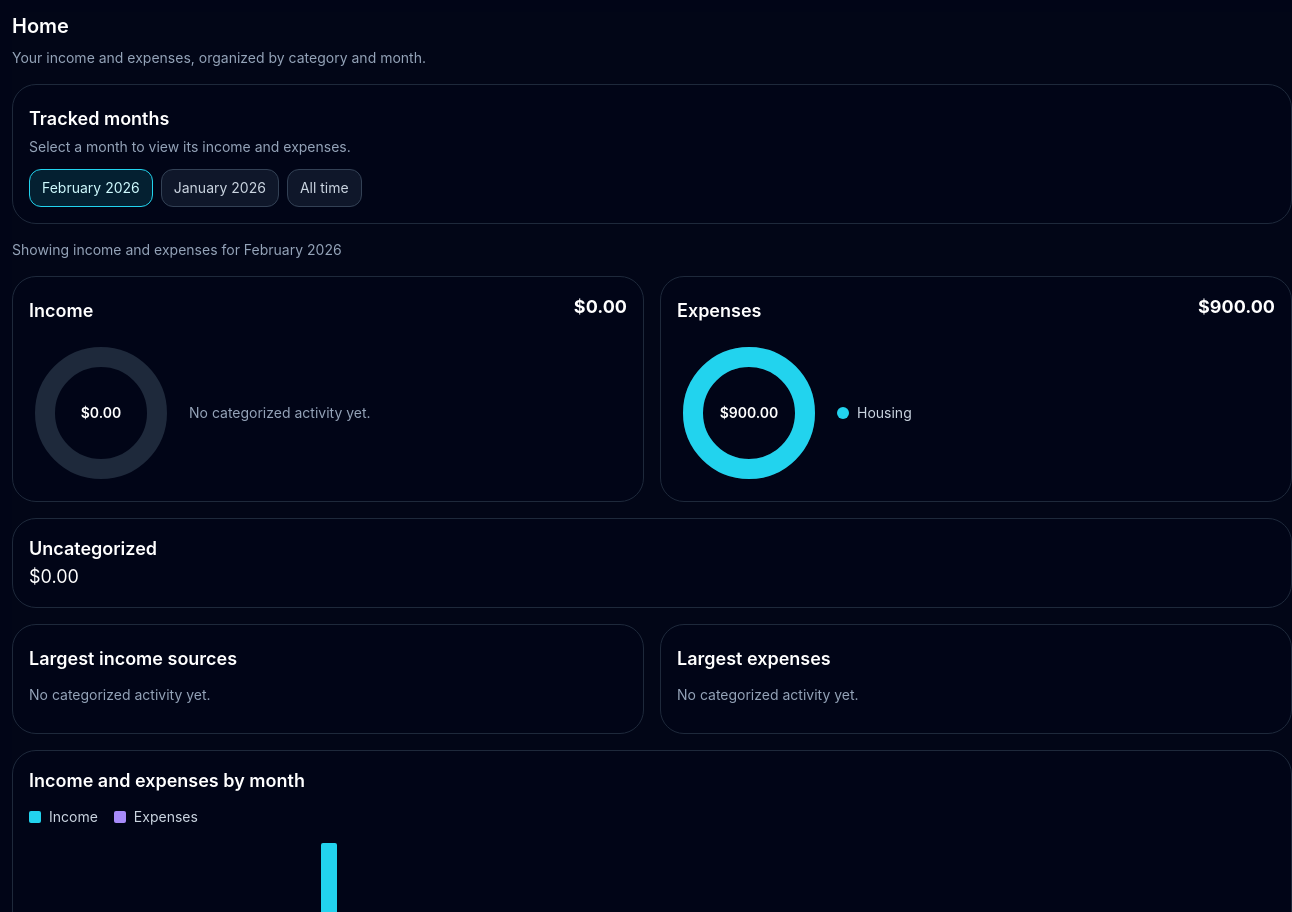
Test: HomeTab category charts › shows a category popup while a chart legend item is hovered
The width and height of the screenshot is (1292, 912).
Check: the heading "Expenses" is shown, box [677, 297, 762, 325]
Click the button "January 2026" at (220, 188), box [161, 169, 279, 207]
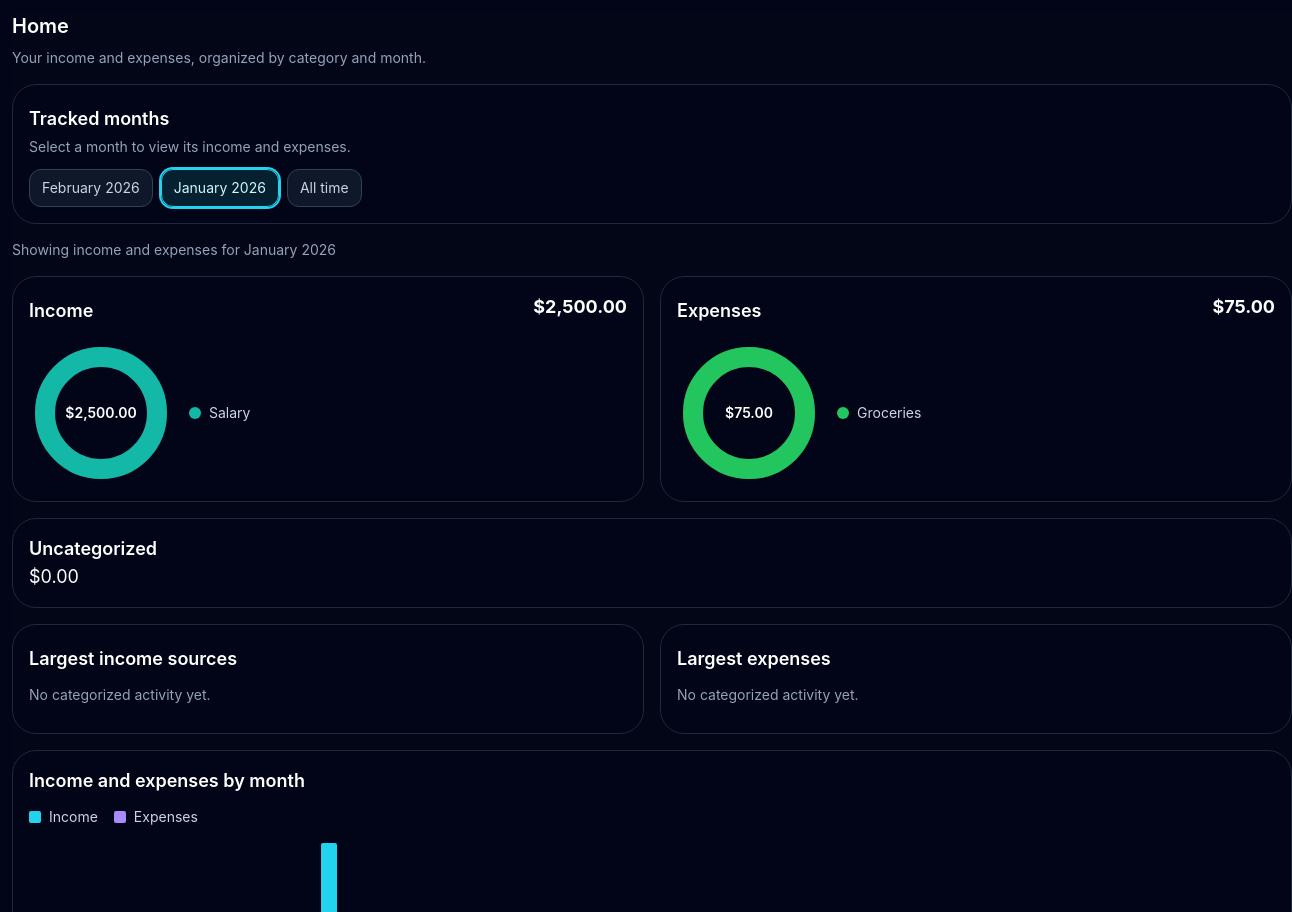
Hover over the button with aria-label "Groceries:" at (889, 412), box [837, 403, 1275, 423]
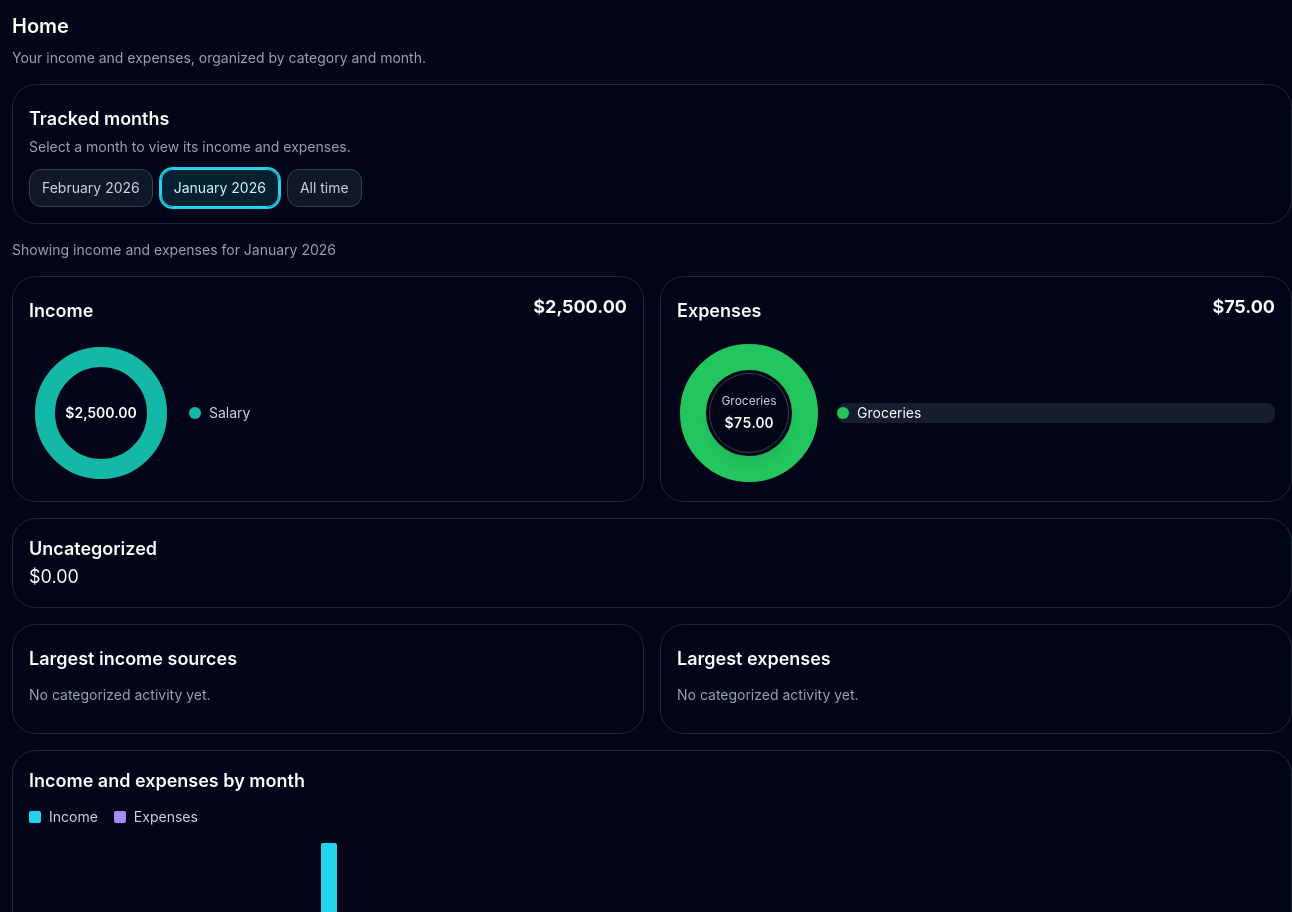
Check: the message shows "Groceries", box [721, 393, 777, 408]
Check: the message shows "$75.00", box [724, 414, 774, 431]
Move the pointer off the button with aria-label "Groceries:", box [837, 403, 1275, 423]
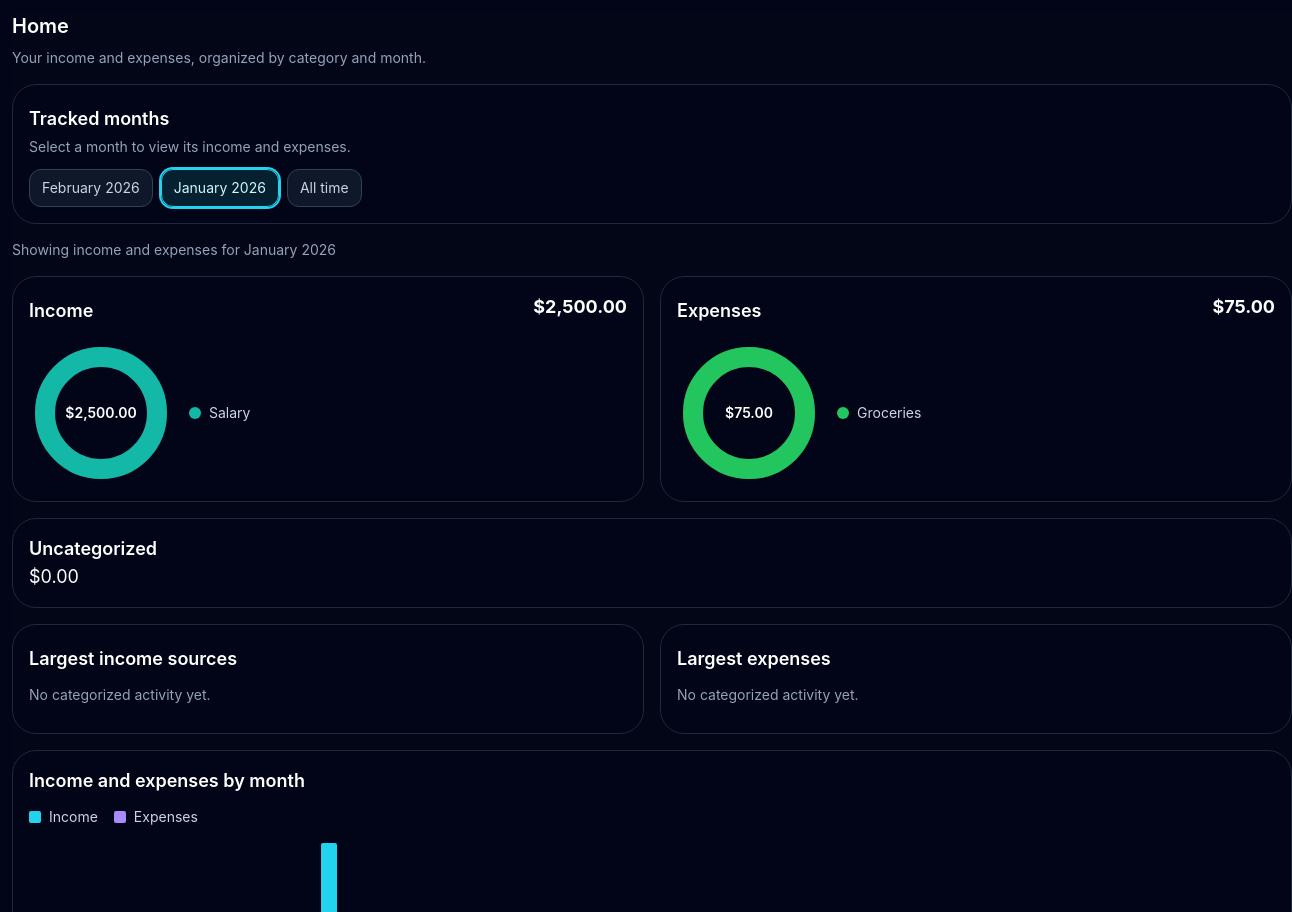
Check: the message "Groceries $75.00" is gone
Focus the button with aria-label "Groceries:" at (889, 412), box [837, 403, 1275, 423]
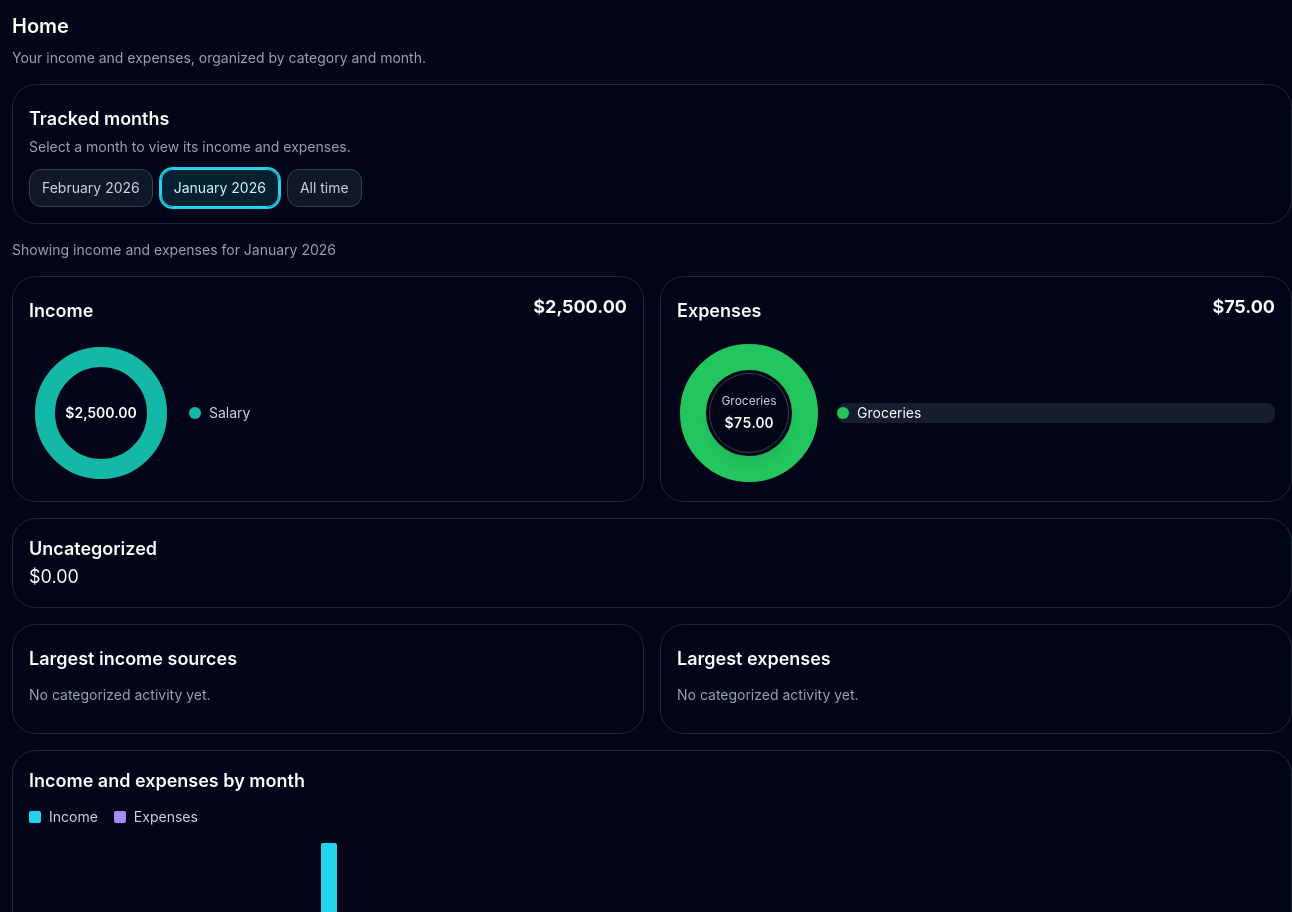
Check: the message shows "Groceries", box [721, 393, 777, 408]
Check: the message shows "$75.00", box [724, 414, 774, 431]
